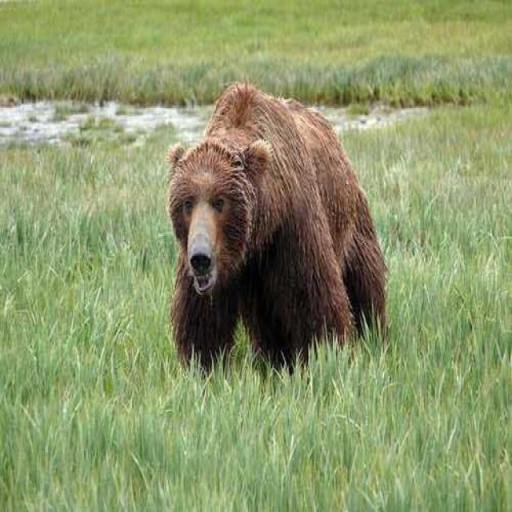Bear: (166, 78, 388, 380)
